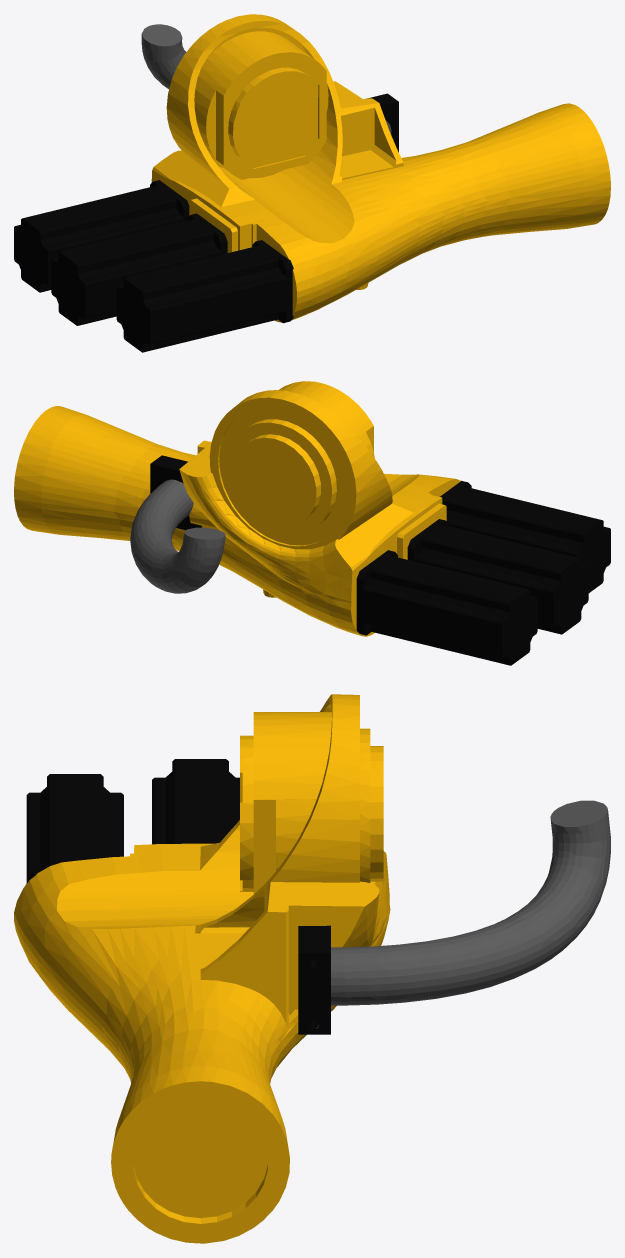
The picture shows the model from 3 angles, top to bottom: view 1: azimuth 30°, elevation 25°; view 2: azimuth 150°, elevation 25°; view 3: azimuth 270°, elevation 25°; orthographic projection. The views are drawn at different scales.
Visible parts, largest first — view 1: /node0/Part__Feature014001001_001-mesh/0, /node3/Fusion011001_001-mesh/0, /node2/Part__Feature027001001_001-mesh/0, /node1/Fusion016001_001-mesh/0; view 2: /node0/Part__Feature014001001_001-mesh/0, /node3/Fusion011001_001-mesh/0, /node2/Part__Feature027001001_001-mesh/0, /node1/Fusion016001_001-mesh/0; view 3: /node0/Part__Feature014001001_001-mesh/0, /node2/Part__Feature027001001_001-mesh/0, /node3/Fusion011001_001-mesh/0, /node1/Fusion016001_001-mesh/0.
Boxes of the visible parts, x1,y1,x2,y2 form: /node0/Part__Feature014001001_001-mesh/0: [151, 14, 610, 323]; /node3/Fusion011001_001-mesh/0: [14, 180, 293, 352]; /node2/Part__Feature027001001_001-mesh/0: [141, 24, 391, 134]; /node1/Fusion016001_001-mesh/0: [366, 93, 398, 152]; /node0/Part__Feature014001001_001-mesh/0: [14, 381, 460, 636]; /node3/Fusion011001_001-mesh/0: [356, 480, 610, 665]; /node2/Part__Feature027001001_001-mesh/0: [130, 479, 225, 593]; /node1/Fusion016001_001-mesh/0: [150, 455, 201, 530]; /node0/Part__Feature014001001_001-mesh/0: [14, 694, 390, 1243]; /node2/Part__Feature027001001_001-mesh/0: [331, 800, 610, 1005]; /node3/Fusion011001_001-mesh/0: [26, 759, 239, 883]; /node1/Fusion016001_001-mesh/0: [298, 925, 330, 1034].
Size of the model in its own units: 0.627 by 0.2791 by 0.4401.
